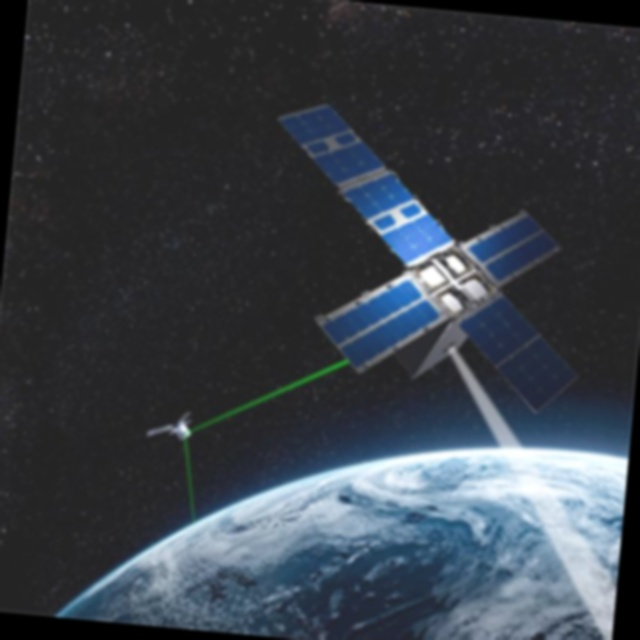satellite: (141, 58, 591, 515)
